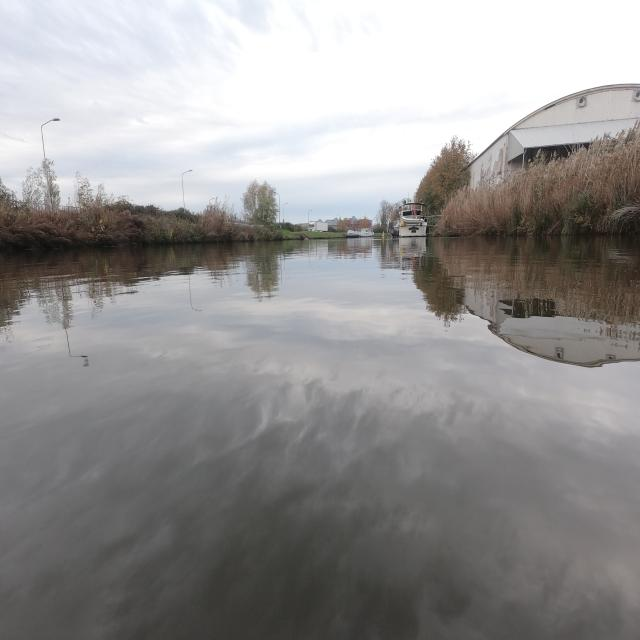boat: (392, 201, 429, 237), (347, 228, 374, 238)
grass: (303, 231, 345, 239)
reed: (435, 125, 640, 235), (4, 198, 278, 246)
sky: (16, 2, 634, 222)
water: (0, 238, 640, 640)
